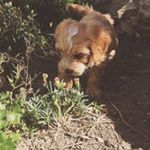puppy: (48, 1, 125, 100)
